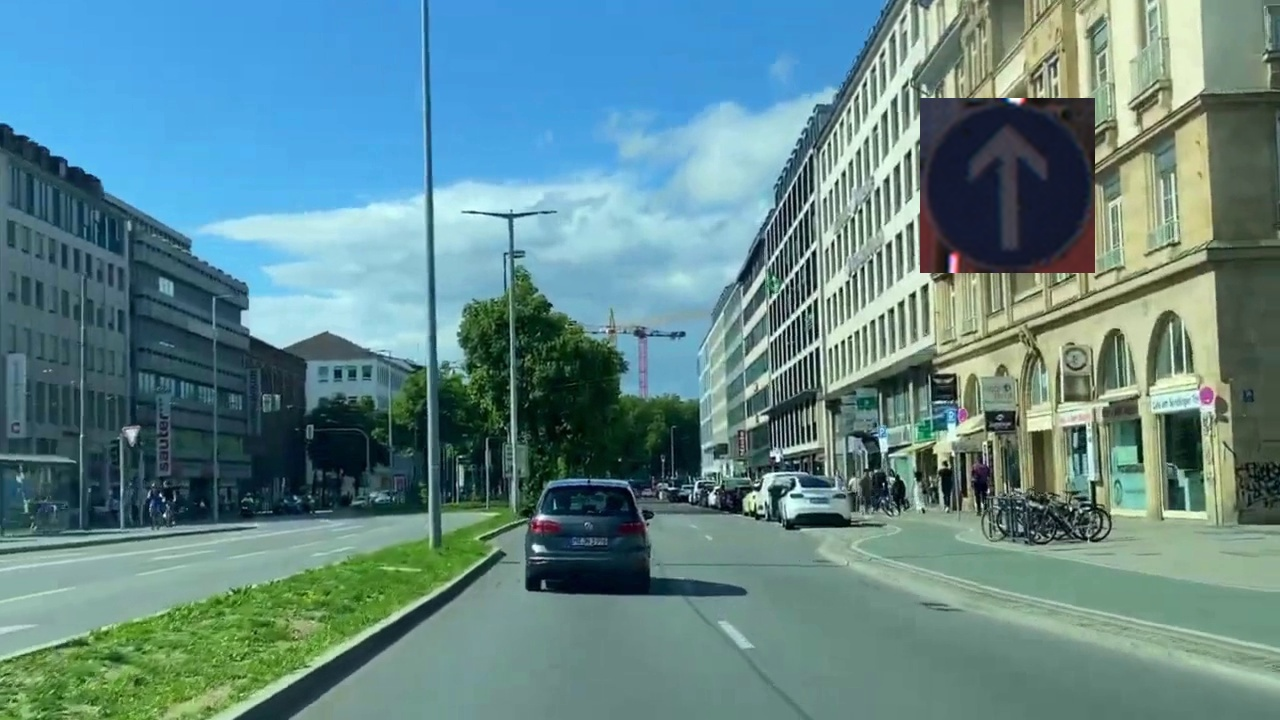Ahead only: (920, 98, 1095, 273)
